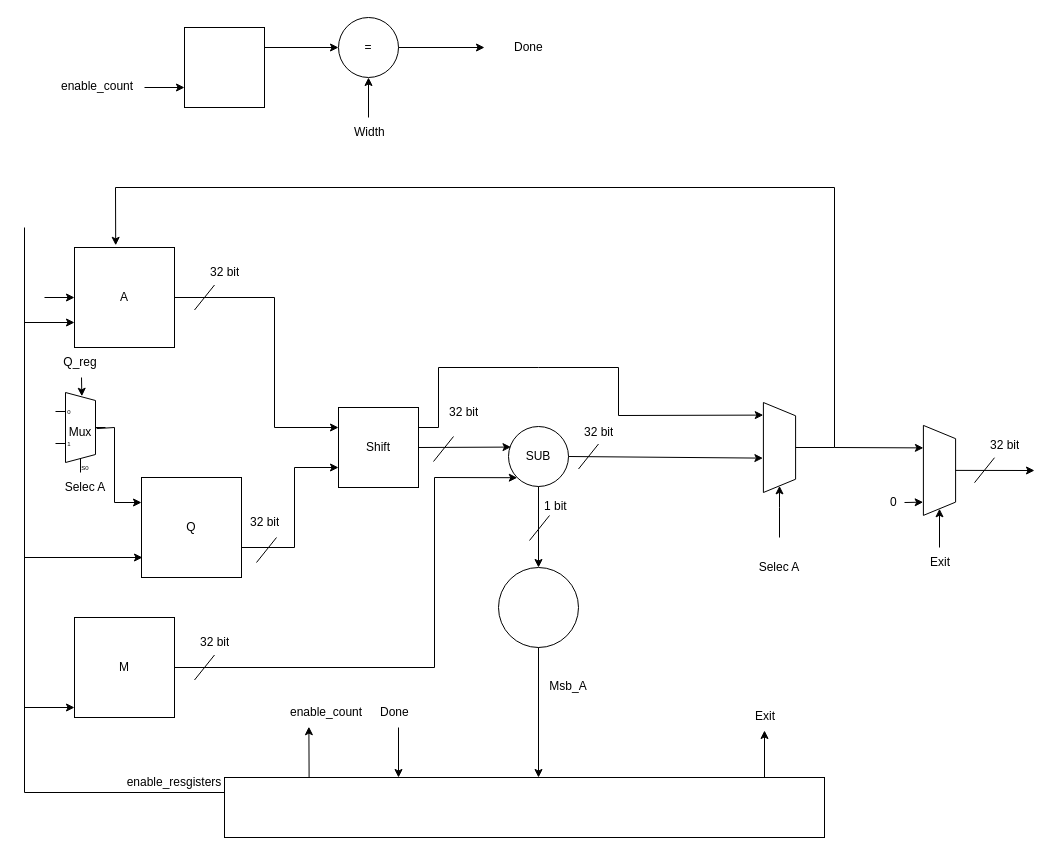
Some shapes in this 1060 by 855 pixel diagram are drawn without their labels. Here are the shapes that lost their labels. From the top down, the box of each, then its label:
(184, 26, 264, 108): Counter
(498, 566, 578, 648): Component
(224, 776, 824, 838): Controller
